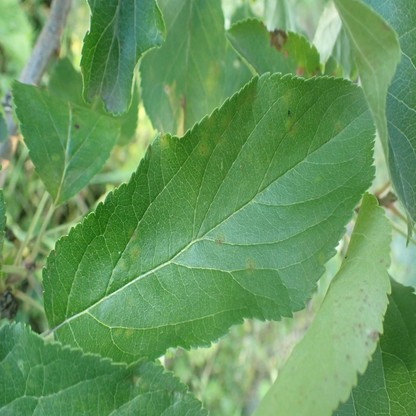frogeye_leaf_spot: (164, 79, 178, 109), (270, 29, 288, 52), (198, 138, 209, 157), (286, 118, 295, 139), (245, 257, 254, 273), (214, 233, 225, 246), (159, 134, 169, 148), (180, 93, 188, 109), (318, 251, 325, 267), (295, 66, 304, 78), (333, 121, 341, 134)
powdery_mildew: (87, 85, 124, 111)
scab: (39, 157, 62, 195), (205, 62, 222, 96), (129, 375, 149, 389), (165, 388, 188, 400), (129, 244, 140, 260), (127, 226, 137, 240), (126, 295, 137, 307), (113, 327, 122, 337), (115, 258, 123, 269), (125, 327, 133, 337)
